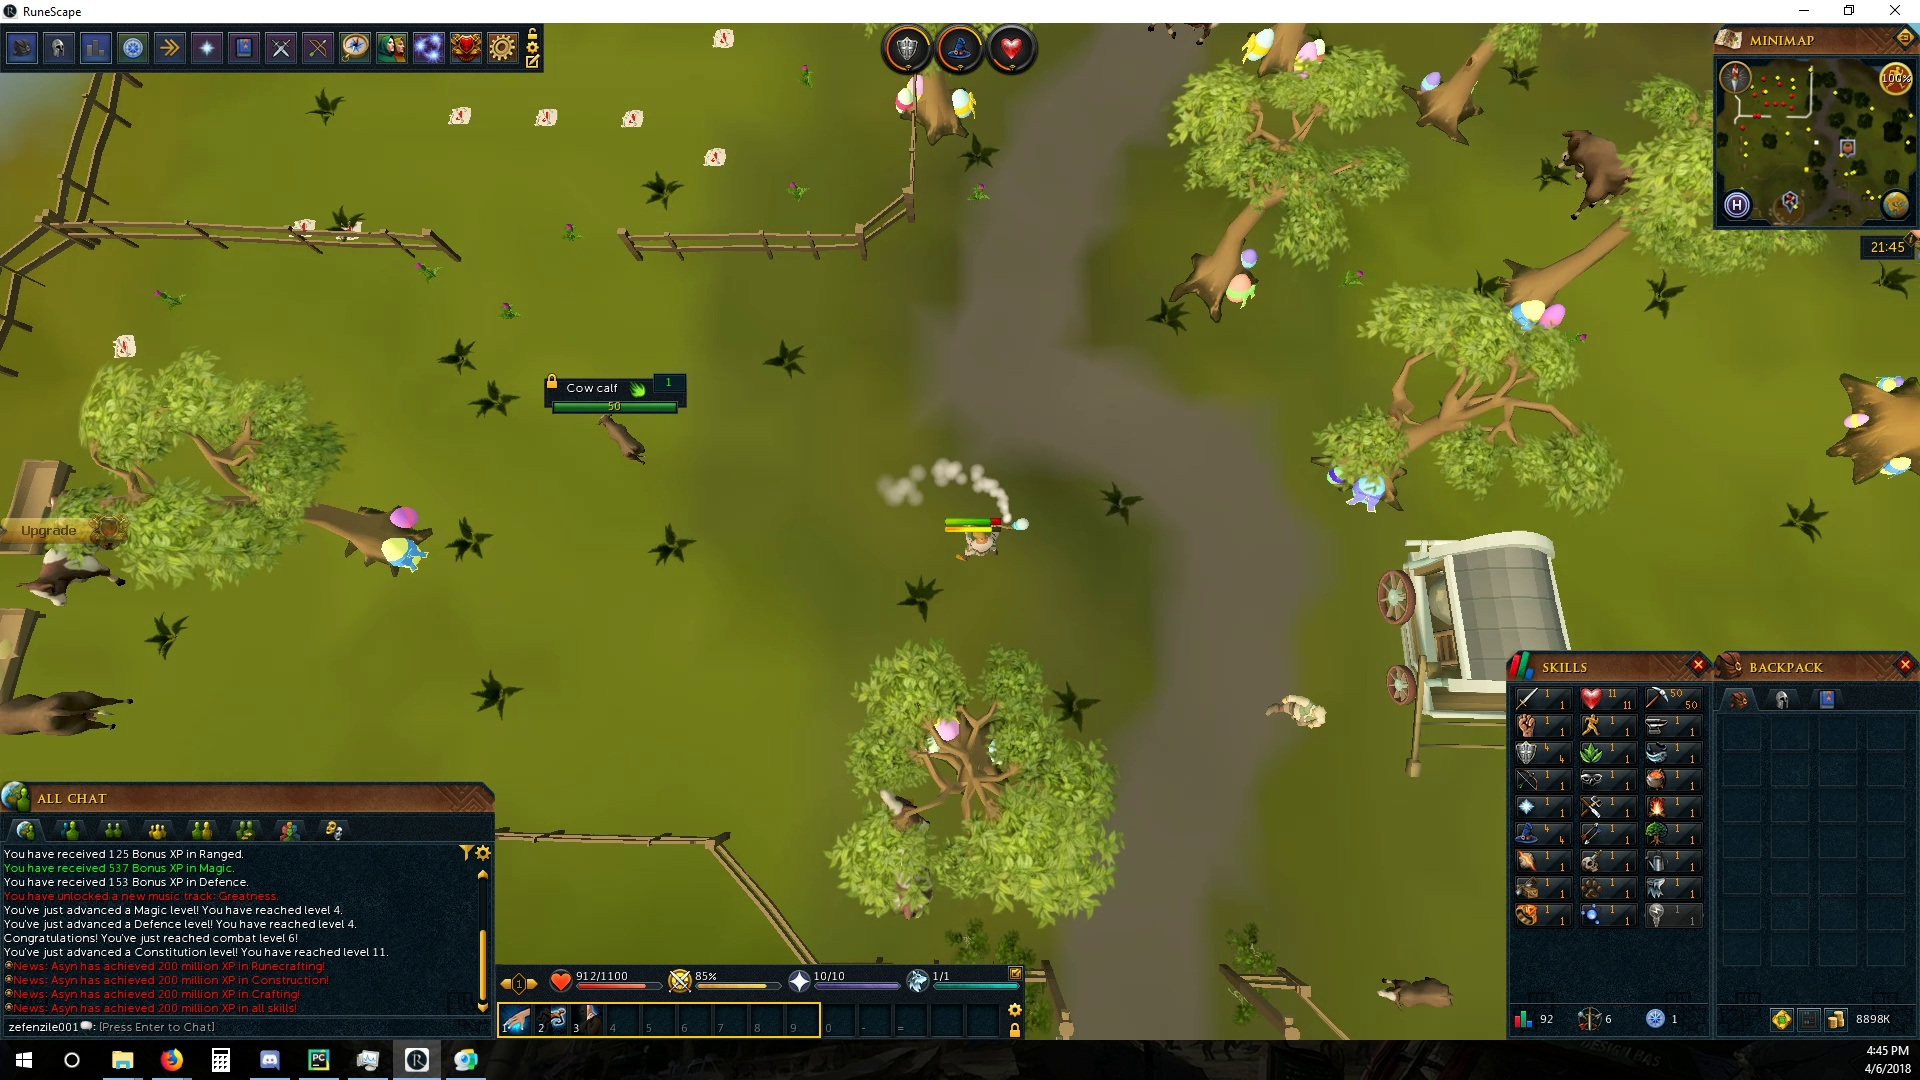calf: (1371, 971, 1460, 1011), (593, 415, 651, 469)
cow: (870, 785, 940, 924), (1549, 127, 1643, 225), (18, 545, 135, 607), (3, 687, 132, 742)
cow_drop: (103, 334, 137, 361), (708, 26, 742, 51), (533, 105, 560, 129), (444, 105, 473, 127), (287, 218, 316, 237), (621, 107, 645, 129), (700, 145, 724, 166)
